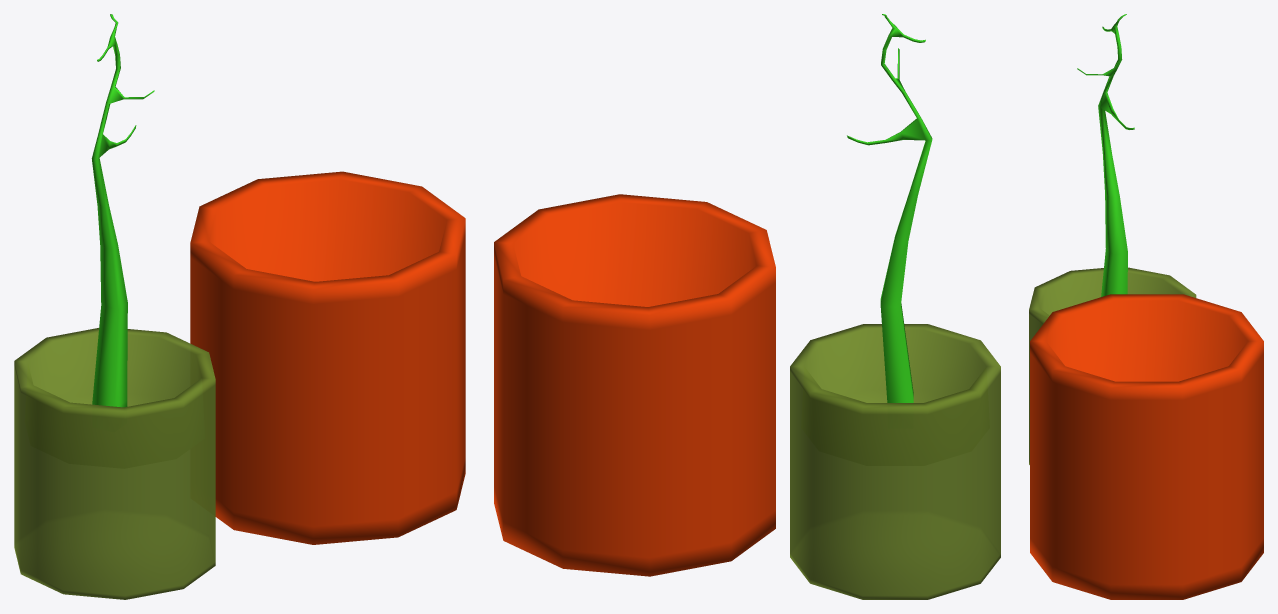
File: Plant&Fruit.fbx
3 renders of one model, left to right at view 1: azimuth 30°, elevation 25°; view 2: azimuth 150°, elevation 25°; view 3: azimuth 270°, elevation 25°, orthographic. The views are drawn at different scales.
Parts seen in each view (by area): view 1: Basket, Plant; view 2: Basket, Plant; view 3: Basket, Plant.
Boxes of the visible parts, x1,y1,x2,y2 form: Basket: [190, 171, 465, 544]; Plant: [14, 14, 215, 599]; Basket: [494, 194, 775, 576]; Plant: [790, 14, 1000, 599]; Basket: [1030, 294, 1263, 599]; Plant: [1029, 14, 1196, 464].
Size of the model in its own units: 85.98 by 101 by 48.05.
